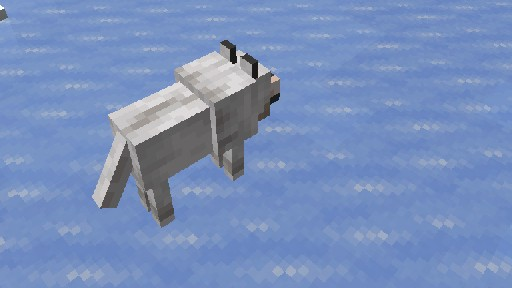wolf: (91, 38, 280, 228)
